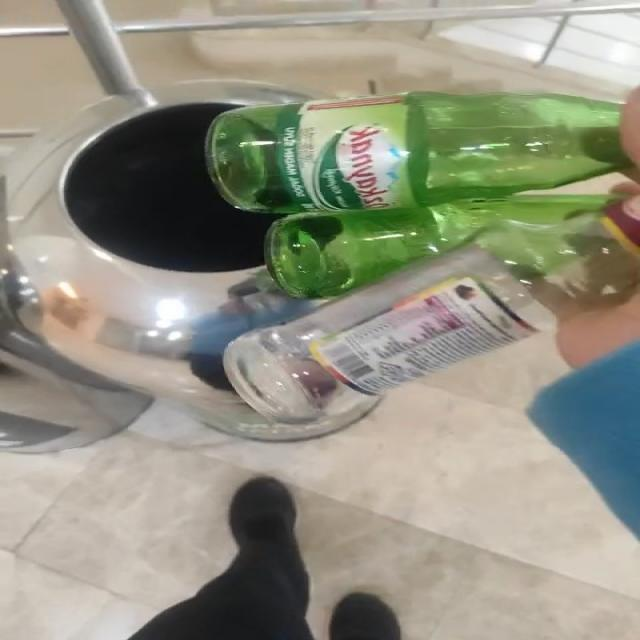glass: (205, 92, 640, 421)
